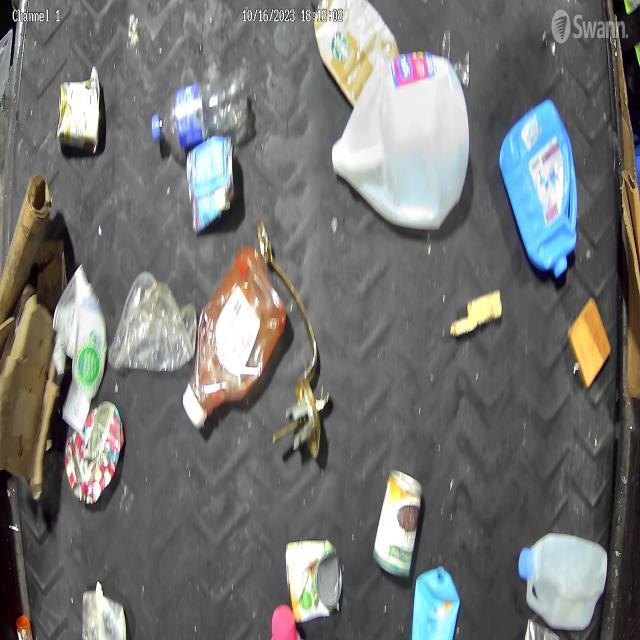can: (372, 466, 423, 580), (184, 132, 237, 236), (285, 536, 342, 626), (56, 64, 102, 155)
milk_jug: (516, 530, 610, 632)
non_white_jug: (331, 53, 472, 231), (182, 245, 289, 432), (500, 98, 580, 282), (310, 0, 400, 110), (410, 563, 460, 640)
plastic_bottle: (151, 66, 248, 154)
